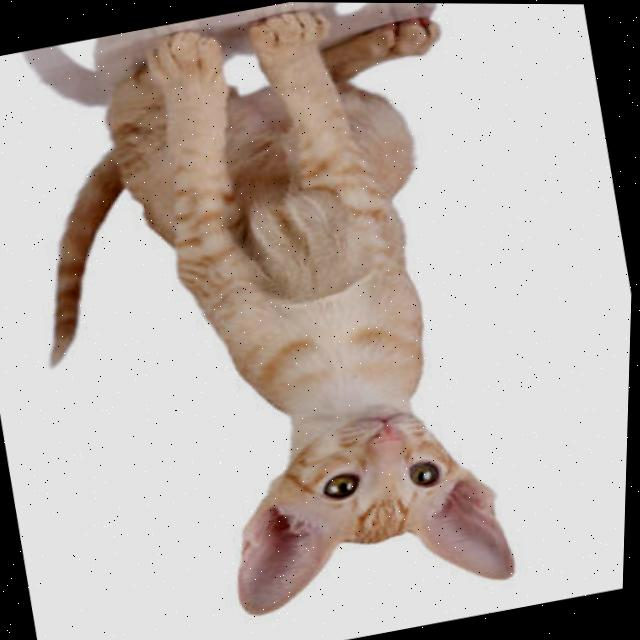Oriental: (0, 0, 558, 640)
